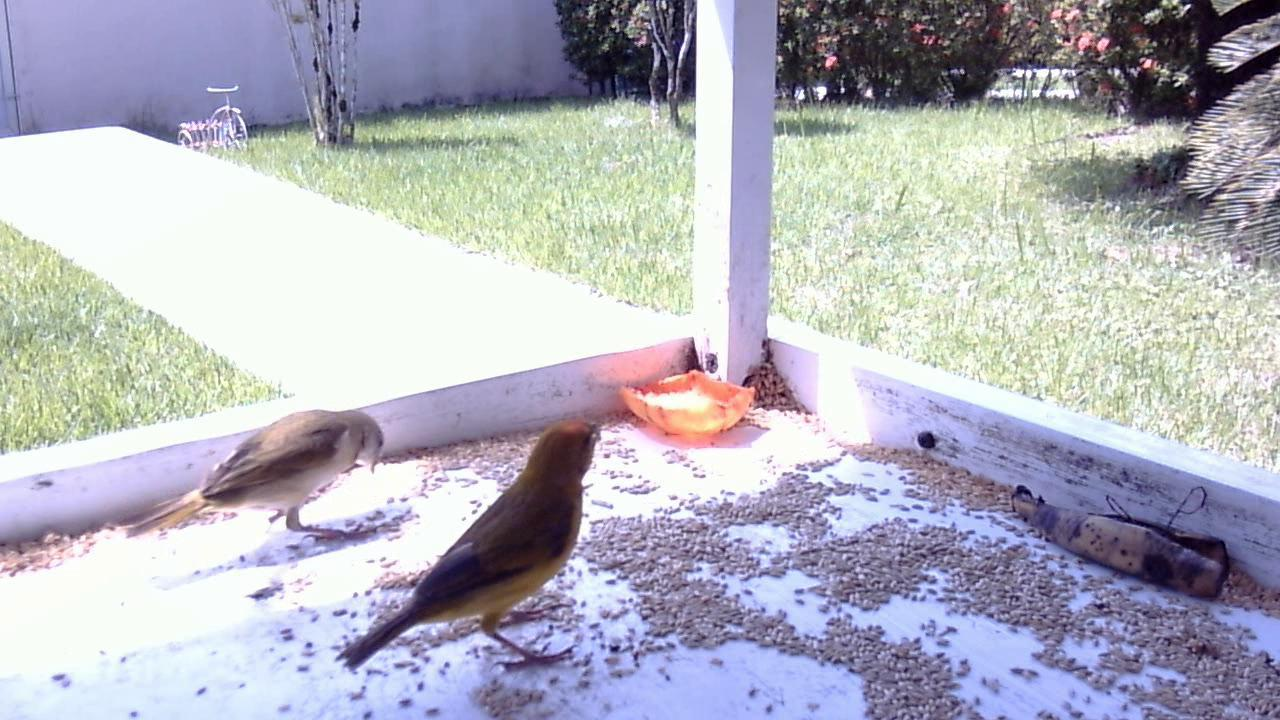canario_do_amazonas: (324, 404, 621, 696), (113, 378, 417, 584)
